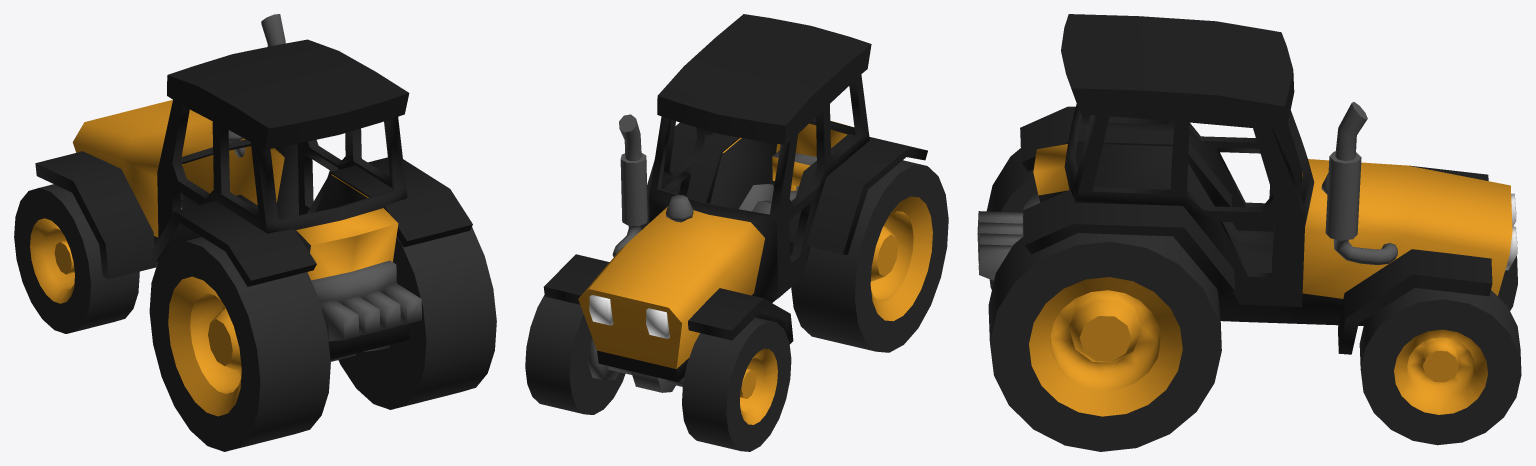
Rendered from TRACTOR.glb.
3 views of the same model, side by side, from view 1: azimuth 30°, elevation 25°; view 2: azimuth 150°, elevation 25°; view 3: azimuth 270°, elevation 25° (orthographic). The views are drawn at different scales.
Visible parts, largest first — view 1: Plane; view 2: Plane; view 3: Plane.
Boxes of the visible parts, x1=… form: Plane: x1=14, y1=14, x2=496, y2=451; Plane: x1=525, y1=14, x2=948, y2=451; Plane: x1=977, y1=14, x2=1521, y2=451.
Size of the model in its own units: 2.43 by 3.04 by 4.42.
